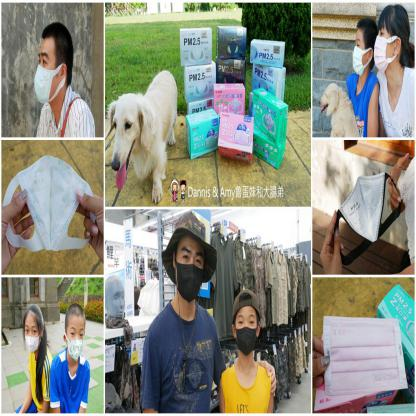Wearing_Mask: (174, 244, 204, 303), (33, 48, 58, 105), (235, 310, 258, 356), (374, 29, 394, 73), (66, 324, 85, 361), (352, 36, 368, 76), (24, 320, 39, 354)
